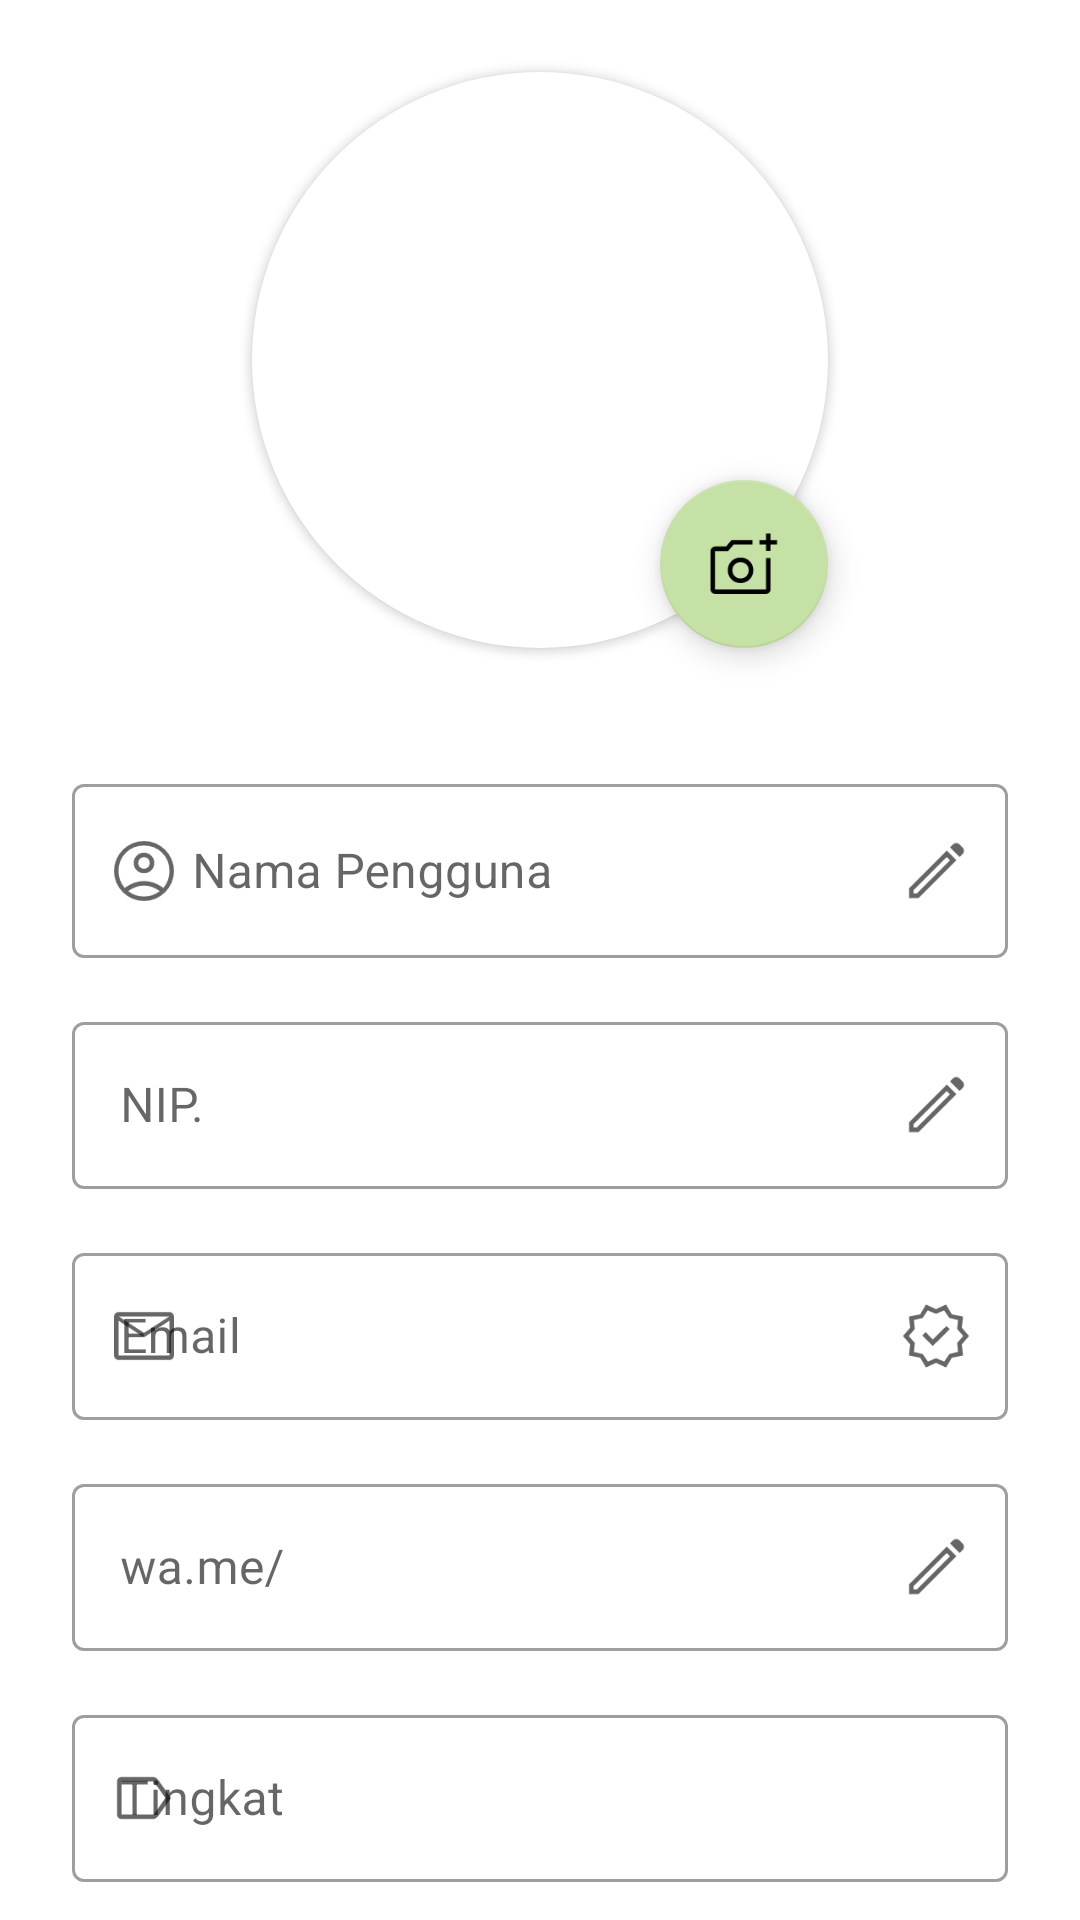

Where icons sit on this 1080x1920 app screen, as (x1, y1, x2, y2):
add photo: (660, 480, 828, 648)
